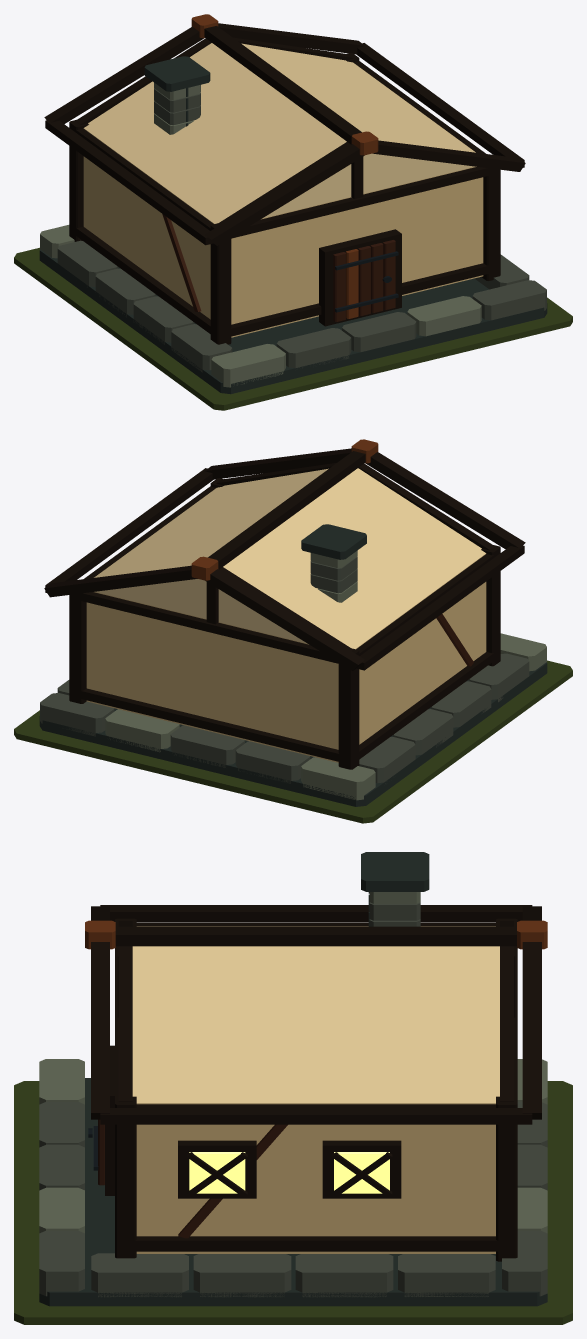
File: longhouse_t2.glb
The picture shows the model from 3 angles, top to bottom: view 1: azimuth 30°, elevation 25°; view 2: azimuth 150°, elevation 25°; view 3: azimuth 270°, elevation 25°; orthographic projection. The views are drawn at different scales.
Parts seen in each view (by area): view 1: MMR | longhouse | T02 Architecture.001, MMR | longhouse | Tier 02 Ground.001; view 2: MMR | longhouse | T02 Architecture.001, MMR | longhouse | Tier 02 Ground.001; view 3: MMR | longhouse | T02 Architecture.001, MMR | longhouse | Tier 02 Ground.001.
Boxes of the visible parts, bbox=[...] form: MMR | longhouse | T02 Architecture.001: bbox=[39, 14, 547, 394]; MMR | longhouse | Tier 02 Ground.001: bbox=[14, 247, 572, 410]; MMR | longhouse | T02 Architecture.001: bbox=[39, 439, 547, 806]; MMR | longhouse | Tier 02 Ground.001: bbox=[14, 660, 572, 823]; MMR | longhouse | T02 Architecture.001: bbox=[39, 852, 547, 1306]; MMR | longhouse | Tier 02 Ground.001: bbox=[14, 1081, 572, 1324].
Bounding box in the file's own units: 3.3 × 1.88 × 3.3.
Materials: 2 (1 with a texture image).
